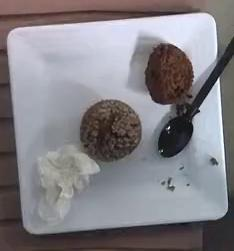dessert: (80, 98, 140, 160), (145, 43, 192, 103)
